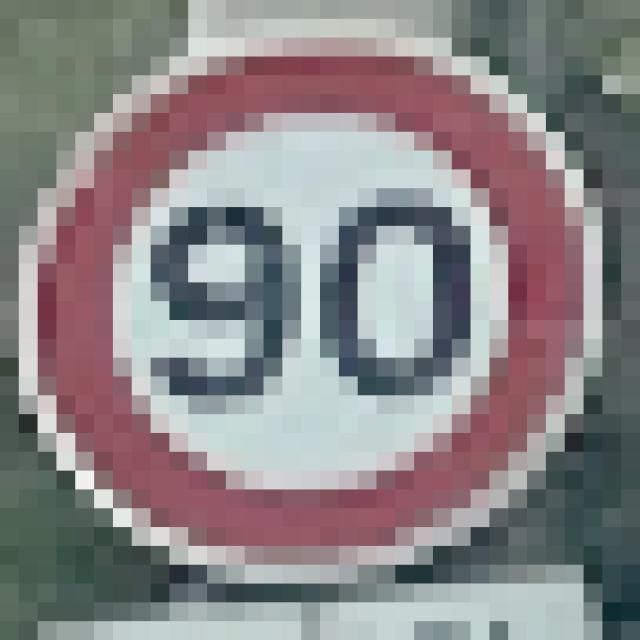speed_90: (0, 8, 621, 621)
